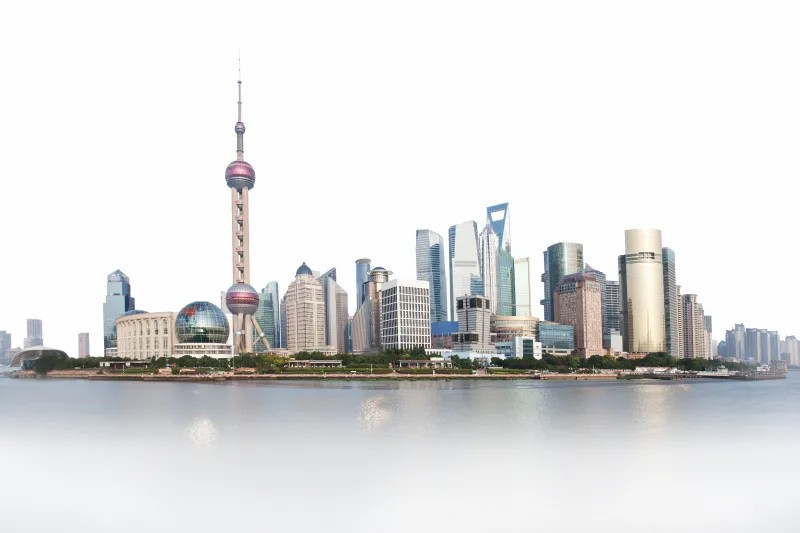Oriental: (227, 51, 271, 353)
